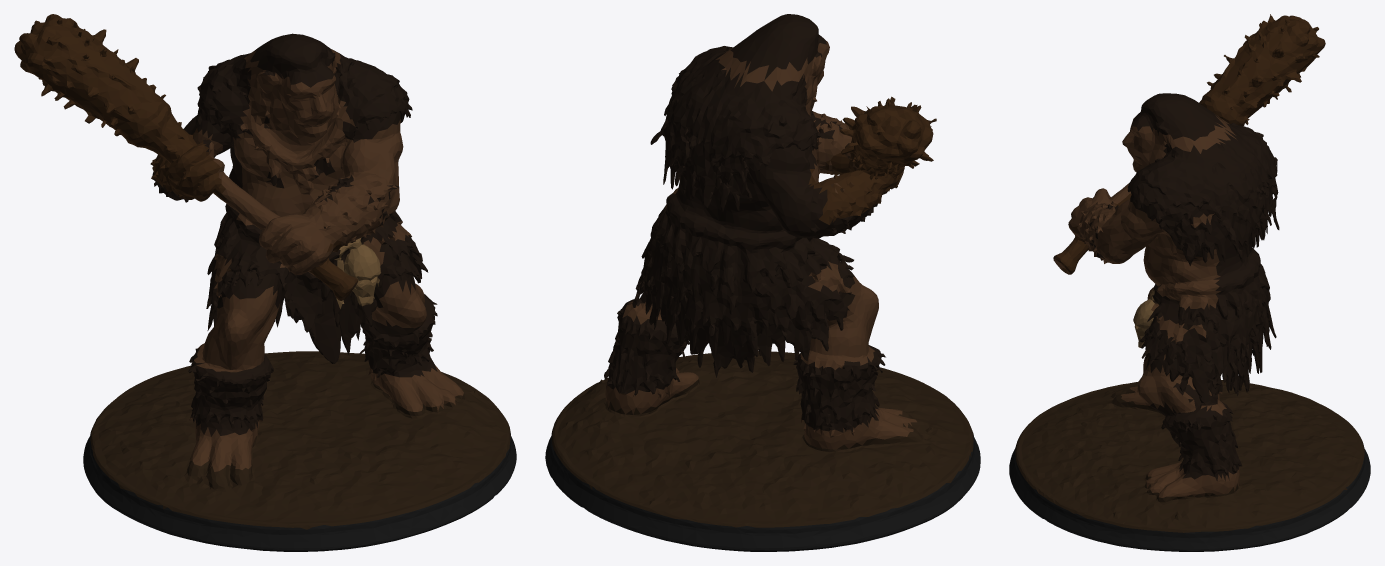
Rendered from ogro_clava.glb.
The picture shows the model from 3 angles, left to right: view 1: azimuth 30°, elevation 25°; view 2: azimuth 150°, elevation 25°; view 3: azimuth 270°, elevation 25°; orthographic projection. The views are drawn at different scales.
Visible parts, largest first — view 1: tmp5ip1f024.ply; view 2: tmp5ip1f024.ply; view 3: tmp5ip1f024.ply.
Part boxes in pixels (x1,y1,x2,y2): tmp5ip1f024.ply: (14,14,516,551); tmp5ip1f024.ply: (545,14,980,551); tmp5ip1f024.ply: (1009,14,1370,551).
Bounding box in the file's own units: 1.89 × 1.97 × 1.69.
